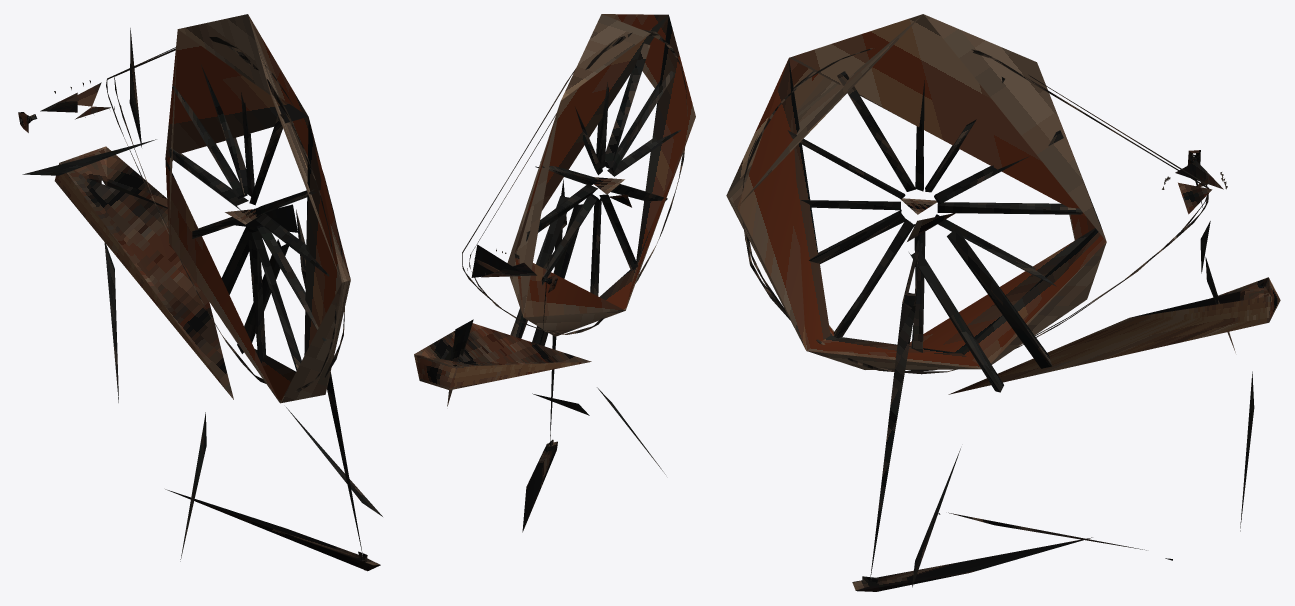
The model's file is spinning_wheel_01.glb.
The picture shows the model from 3 angles, left to right: view 1: azimuth 30°, elevation 25°; view 2: azimuth 150°, elevation 25°; view 3: azimuth 270°, elevation 25°; orthographic projection. The views are drawn at different scales.
Visible parts, largest first — view 1: spinning_wheel_01; view 2: spinning_wheel_01; view 3: spinning_wheel_01.
Boxes of the visible parts, bbox=[...] form: spinning_wheel_01: bbox=[18, 14, 382, 571]; spinning_wheel_01: bbox=[414, 14, 695, 532]; spinning_wheel_01: bbox=[726, 14, 1280, 591].
Size of the model in its own units: 0.4197 by 0.9977 by 0.9328.
1 material, 1 textured.
